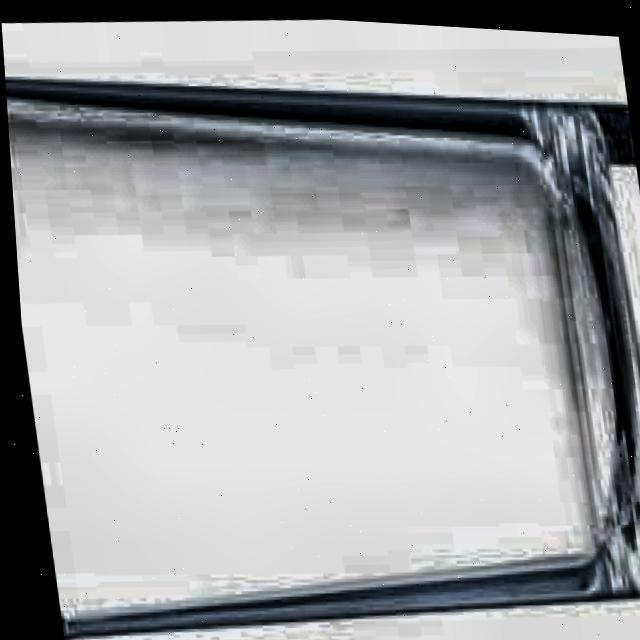glass: (4, 72, 640, 640)
